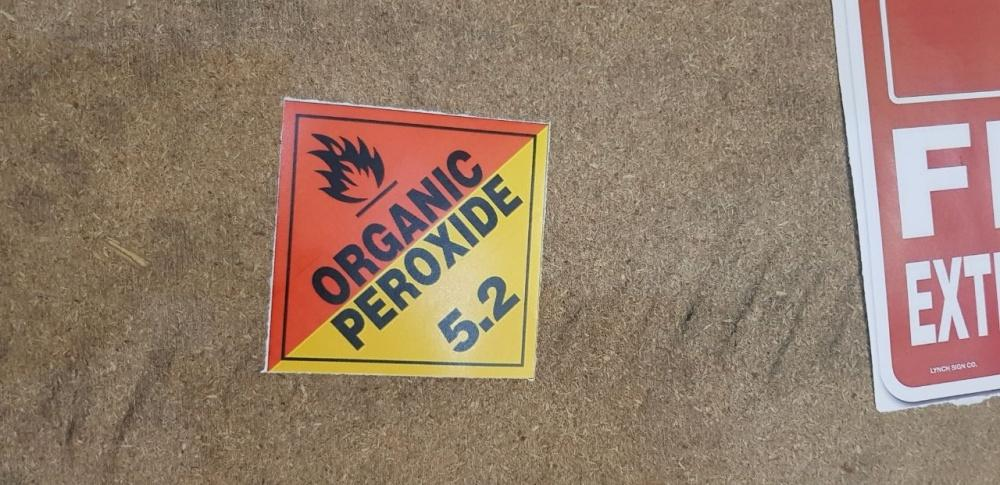organic-peroxide: (267, 96, 554, 384)
